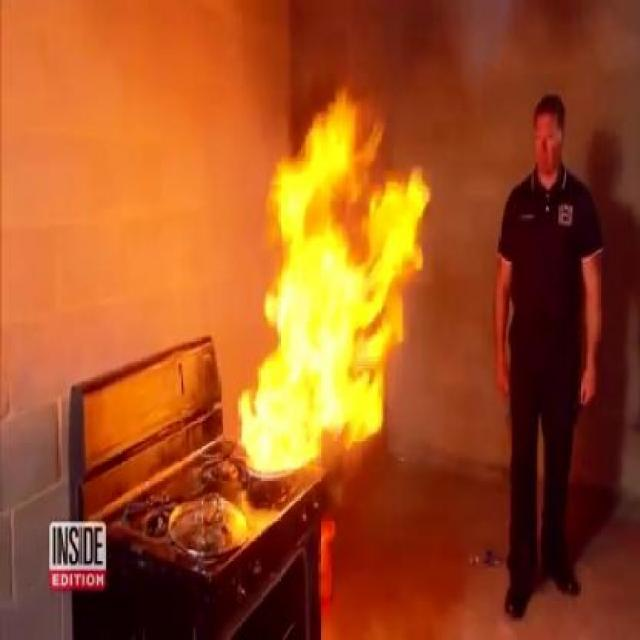fire: (228, 154, 408, 478)
